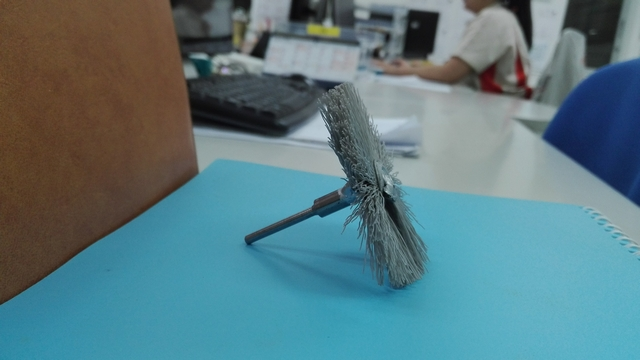TOOL: (212, 63, 448, 313), (245, 69, 434, 291), (303, 89, 430, 289)
